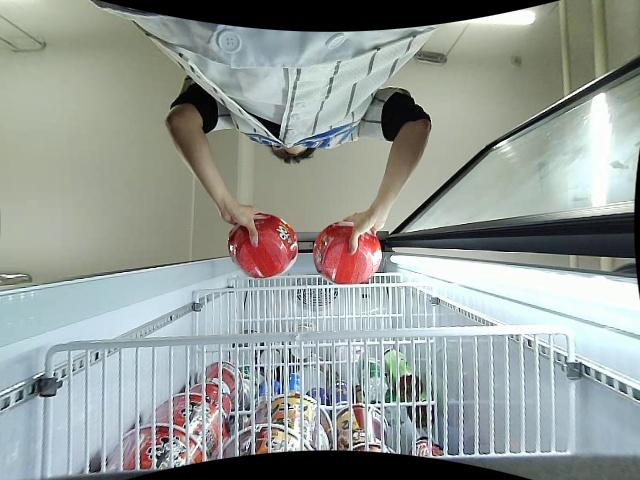00_hand: (338, 211, 387, 257), (221, 204, 265, 247)
10_wangTtukkeong: (229, 213, 297, 281), (313, 221, 381, 283)
